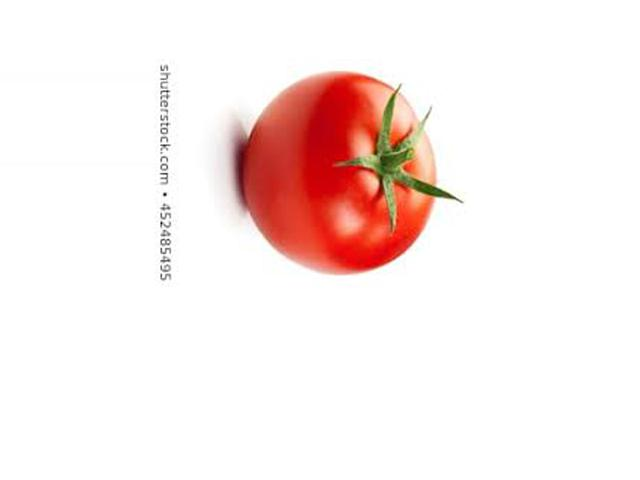tomato: (240, 74, 435, 272)
